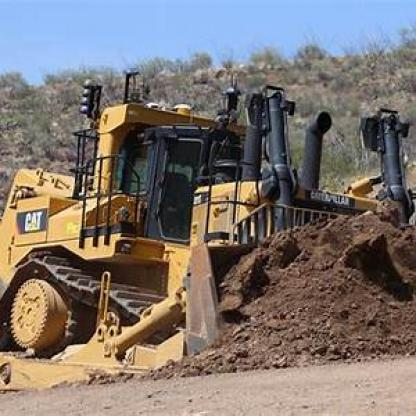bull_dozer/loader/grader: (14, 64, 410, 378)
